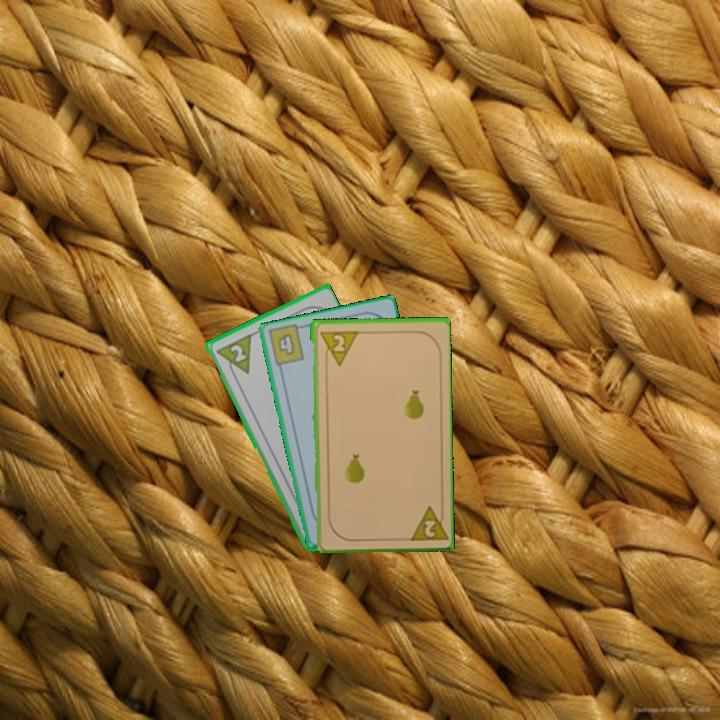2p: (212, 330, 254, 382), (404, 501, 448, 543), (315, 327, 359, 368)
4b: (274, 329, 297, 358)
